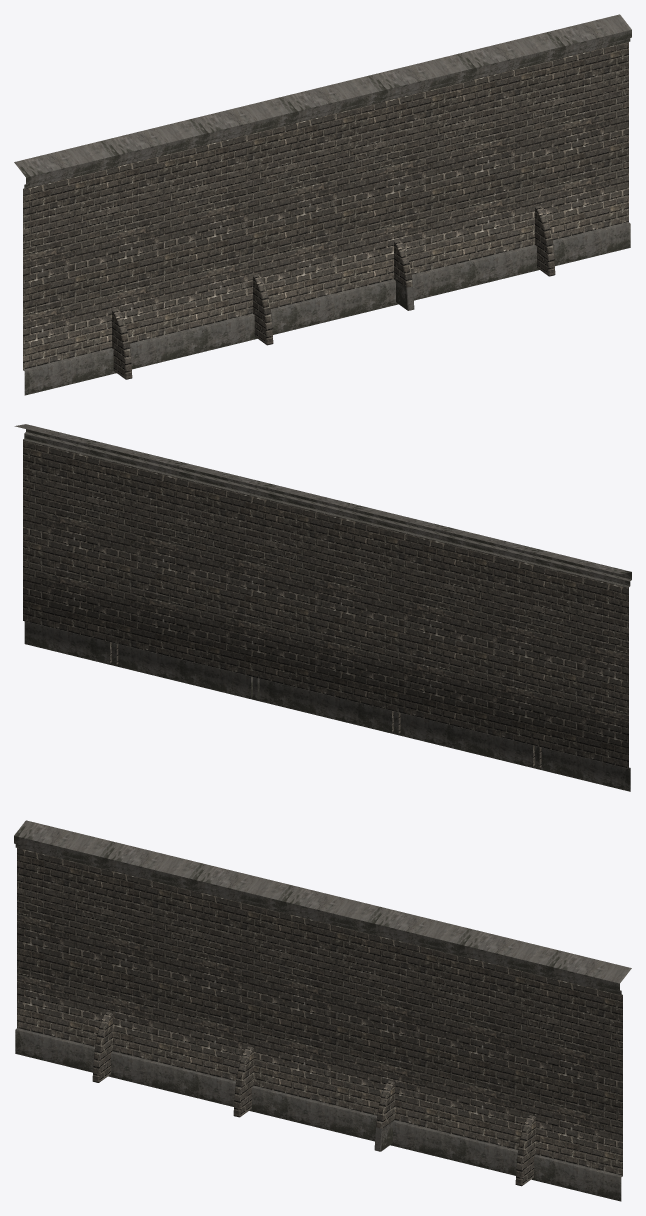
The model's file is backWallExtruded.FBX.
3 renders of one model, top to bottom at view 1: azimuth 30°, elevation 25°; view 2: azimuth 150°, elevation 25°; view 3: azimuth 330°, elevation 25°, orthographic.
Visible parts, largest first — view 1: backWallExtruded; view 2: backWallExtruded; view 3: backWallExtruded.
Part boxes in pixels (x1,y1,x2,y2): backWallExtruded: (14, 14, 631, 395); backWallExtruded: (14, 424, 631, 791); backWallExtruded: (14, 820, 631, 1201).
Size of the model in its own units: 2457 by 874 by 161.
2 materials, 2 textured.
